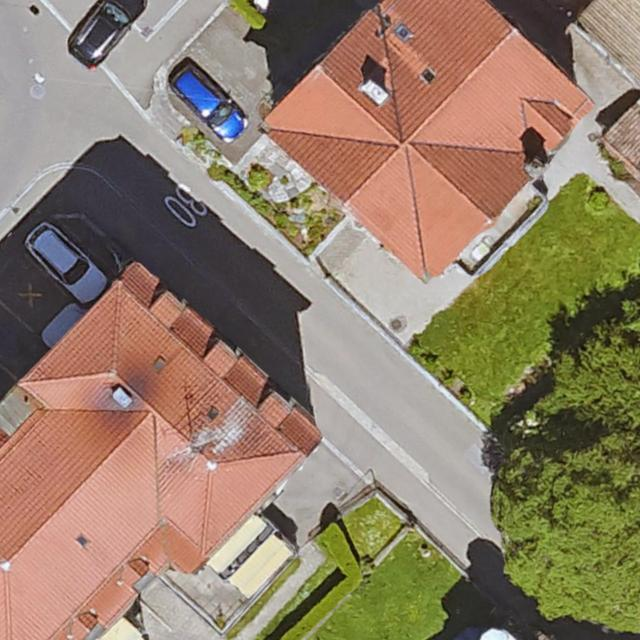tree: (497, 430, 640, 629), (557, 311, 640, 430)
